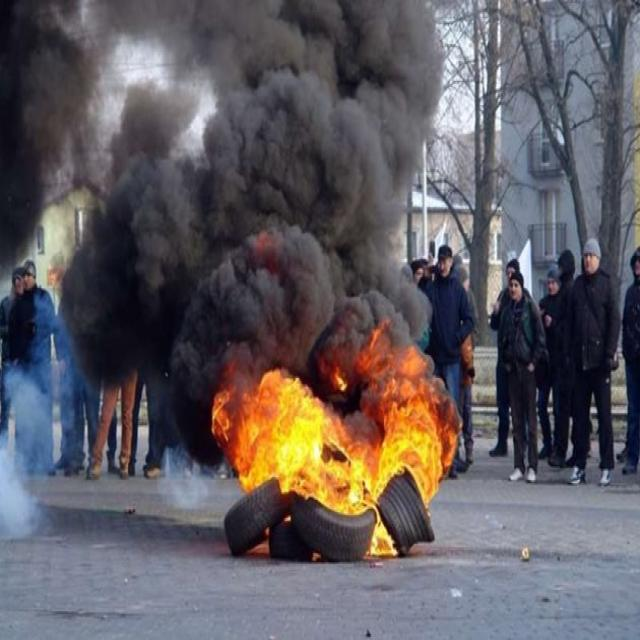fire: (211, 368, 361, 517), (362, 327, 458, 507)
